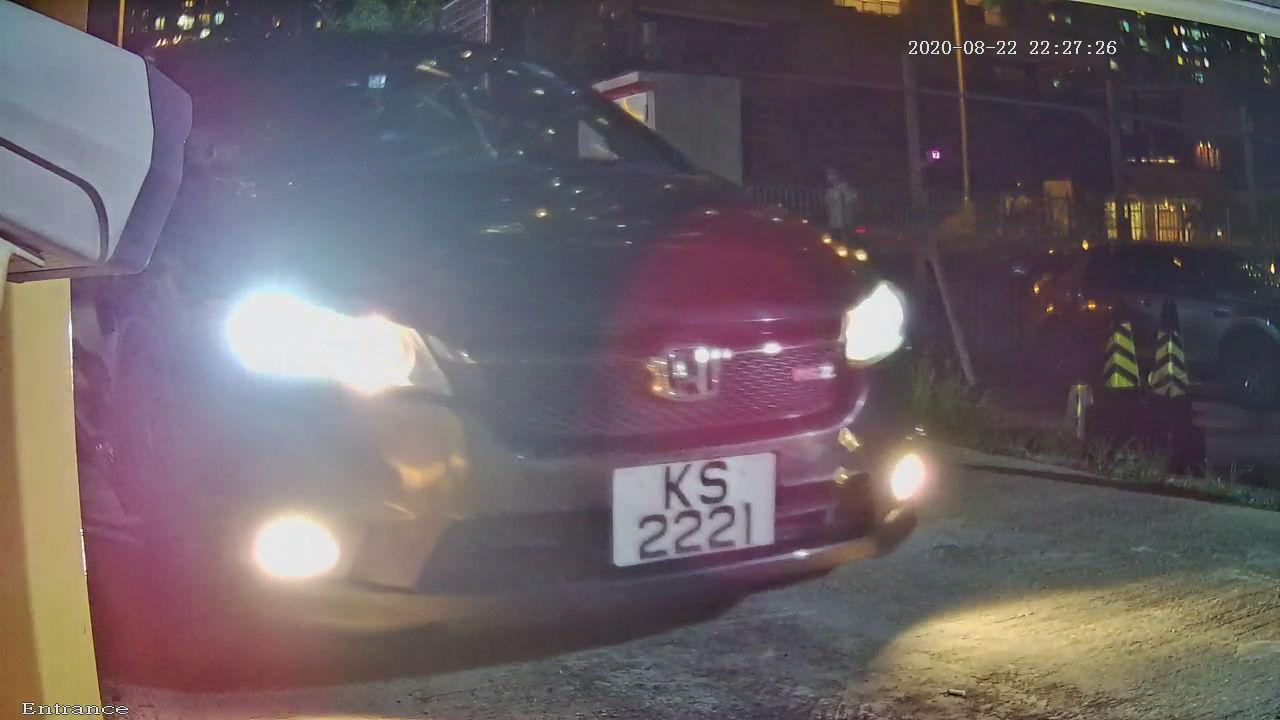License Plate: (595, 444, 789, 573)
